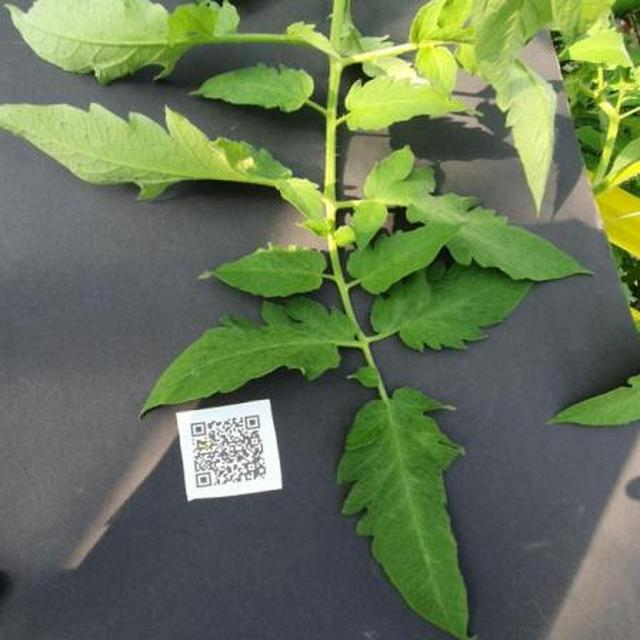Healthy Leaf: (176, 74, 640, 640)
